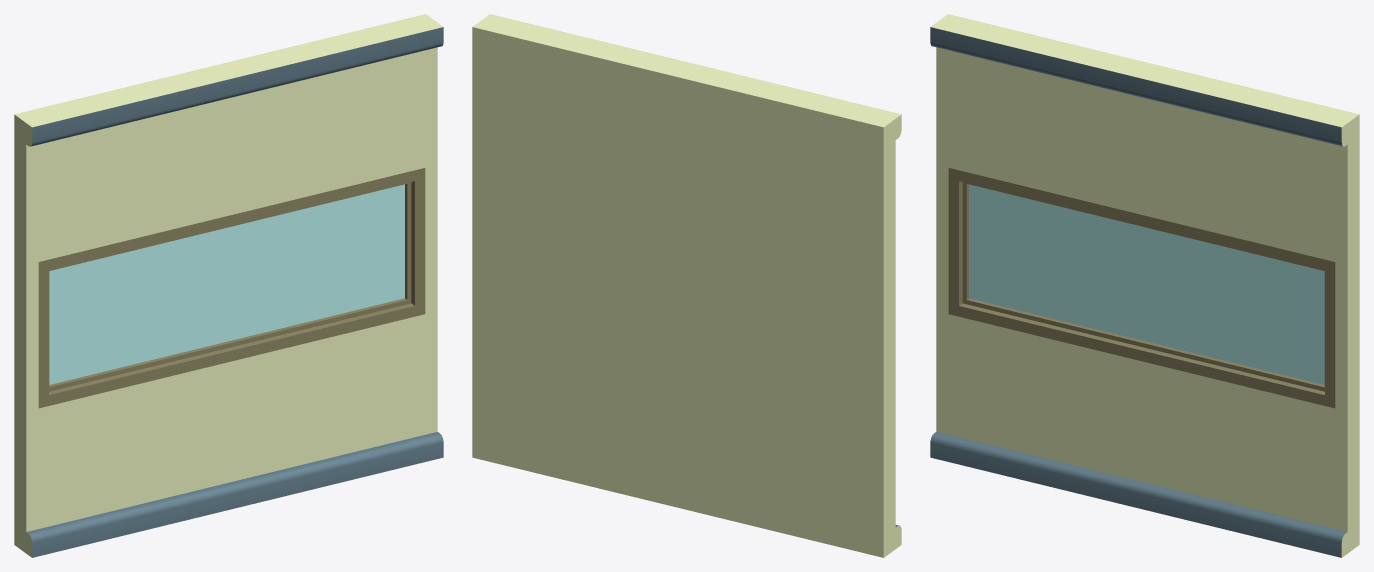
Rendered from Modular_01_Window_02.fbx.
3 renders of one model, left to right at view 1: azimuth 30°, elevation 25°; view 2: azimuth 150°, elevation 25°; view 3: azimuth 330°, elevation 25°, orthographic.
Visible parts, largest first — view 1: Modular_01_Window_02; view 2: Modular_01_Window_02; view 3: Modular_01_Window_02.
Boxes of the visible parts, <box> form: Modular_01_Window_02: <box>14,14,443,557</box>; Modular_01_Window_02: <box>472,14,901,557</box>; Modular_01_Window_02: <box>930,14,1359,557</box>.
Bounding box in the file's own units: 200 × 200 × 15.
